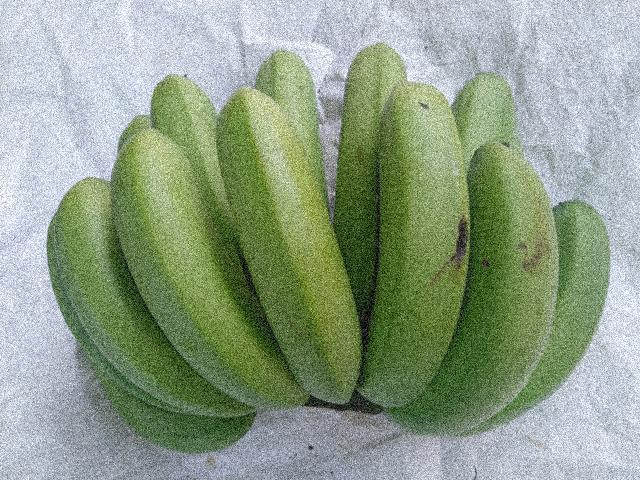freshunripe: (206, 79, 378, 390), (417, 122, 563, 440), (347, 66, 462, 419), (106, 126, 251, 346), (513, 184, 620, 423), (47, 160, 143, 357), (135, 42, 217, 159), (262, 27, 339, 138), (456, 35, 535, 133), (335, 35, 421, 100)
